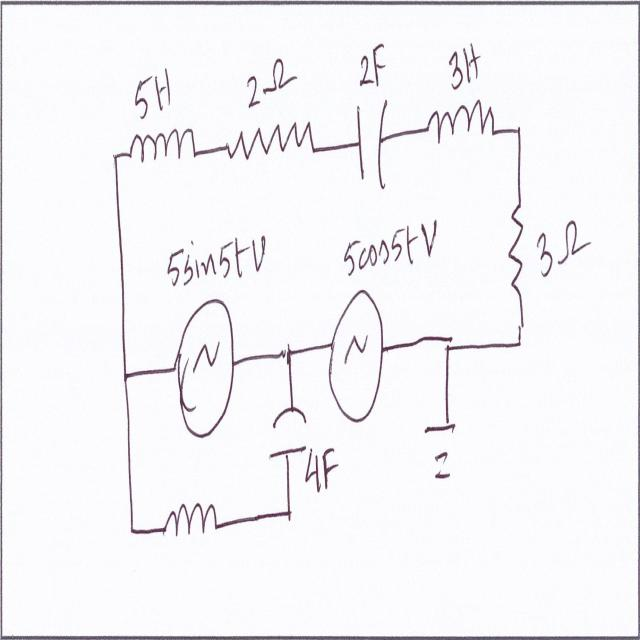ac_current: (324, 279, 386, 437), (171, 294, 236, 444)
capacitor: (355, 94, 391, 192), (269, 396, 308, 464)
ground: (421, 411, 460, 490)
inductor: (426, 92, 500, 162), (128, 117, 197, 182), (160, 489, 217, 564)
resistor: (226, 121, 318, 168), (505, 193, 526, 301)
